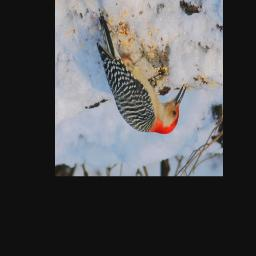Woodpecker: (94, 8, 187, 135)
